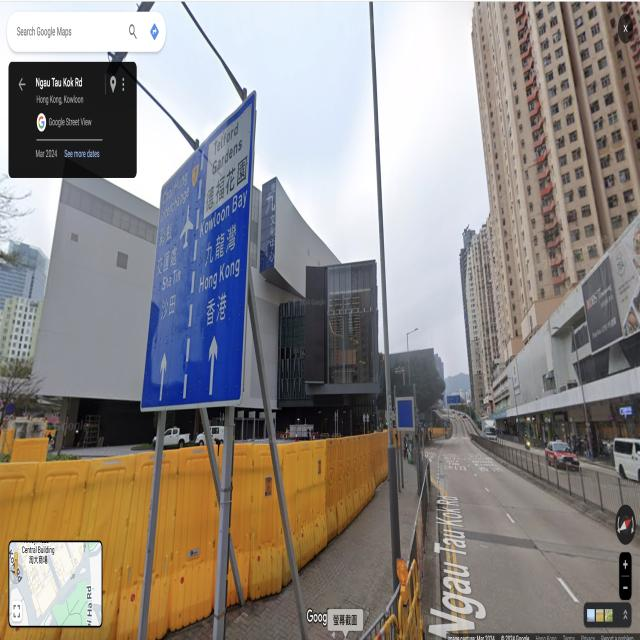Direction-Sign: (141, 92, 256, 410)
